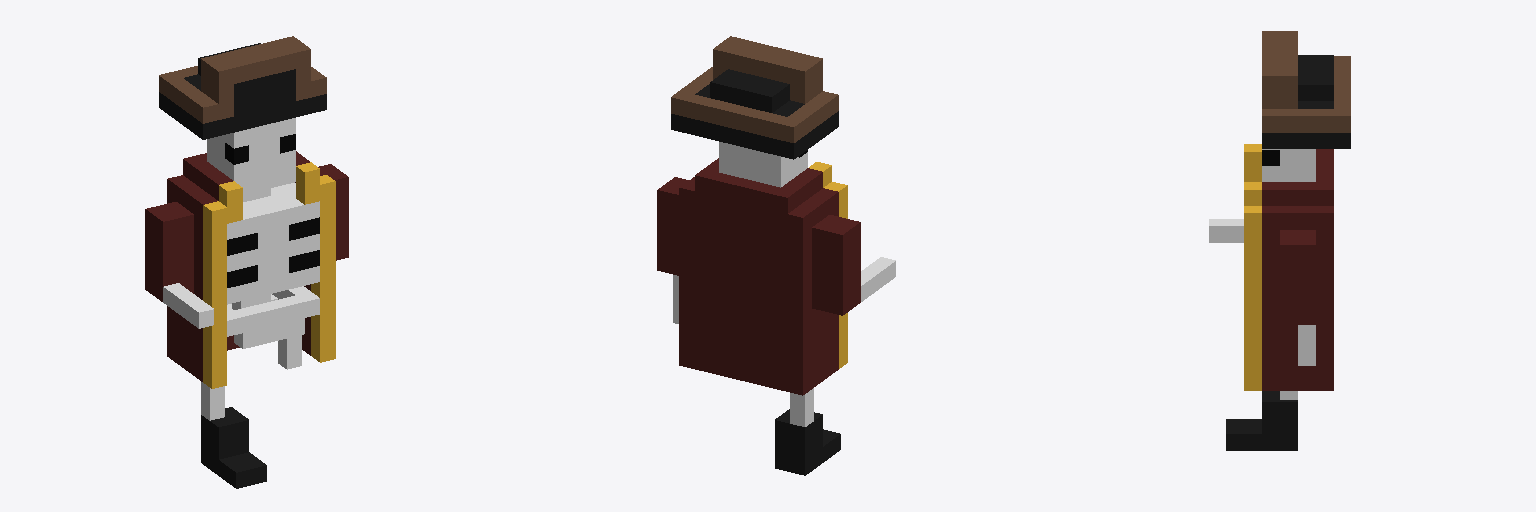
3 views of the same model, side by side, from view 1: azimuth 30°, elevation 25°; view 2: azimuth 150°, elevation 25°; view 3: azimuth 270°, elevation 25° (orthographic).
Visible parts, largest first — view 1: Wizard_2; view 2: Wizard_2; view 3: Wizard_2.
Boxes of the visible parts, <box> form: Wizard_2: <box>145,36,348,488</box>; Wizard_2: <box>657,36,895,475</box>; Wizard_2: <box>1209,31,1350,450</box>.
Bounding box in the file's own units: 12 × 25 × 8.
Materials: 1 (1 with a texture image).